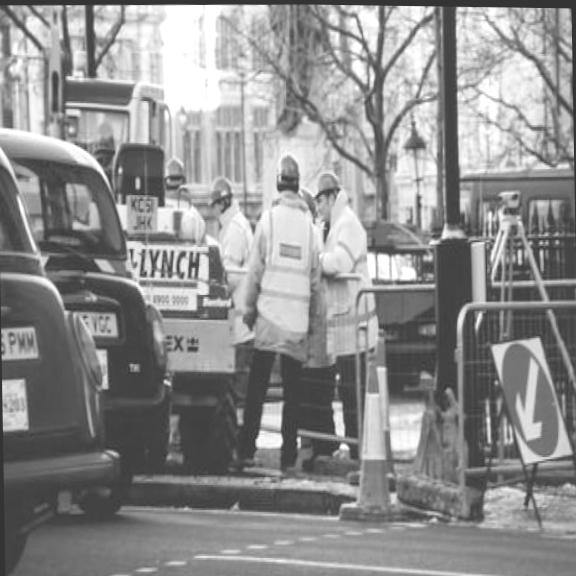safety_vest: (242, 195, 324, 360), (320, 182, 380, 355), (218, 192, 258, 345), (300, 213, 334, 369)
